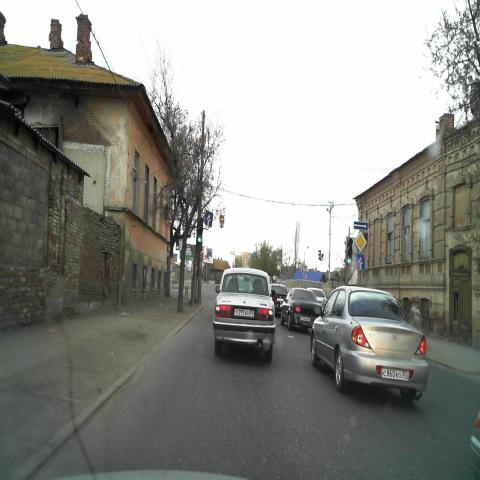5_6: (204, 210, 213, 228), (356, 253, 365, 271)
5_7_1: (352, 221, 367, 232)
